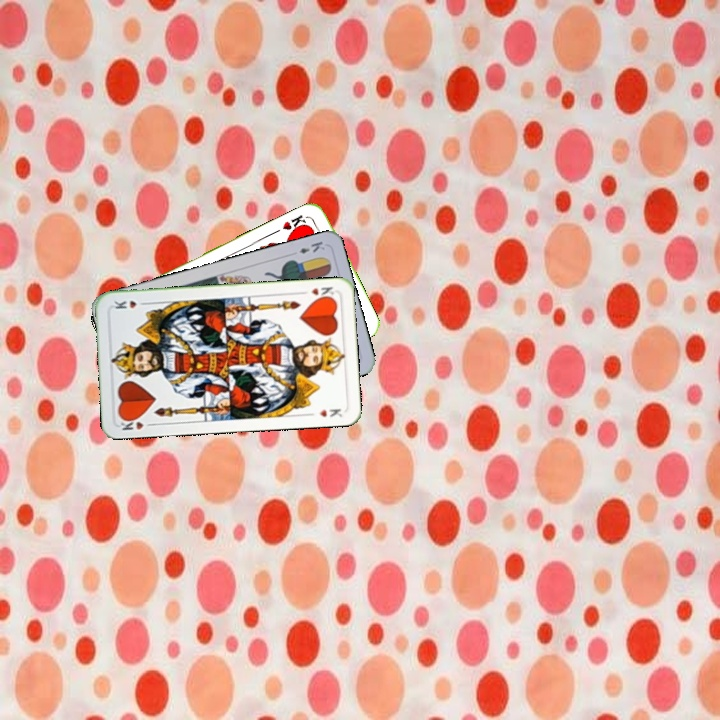EK: (295, 237, 327, 256)
HK: (278, 211, 310, 236), (116, 413, 157, 432), (297, 283, 336, 302)
